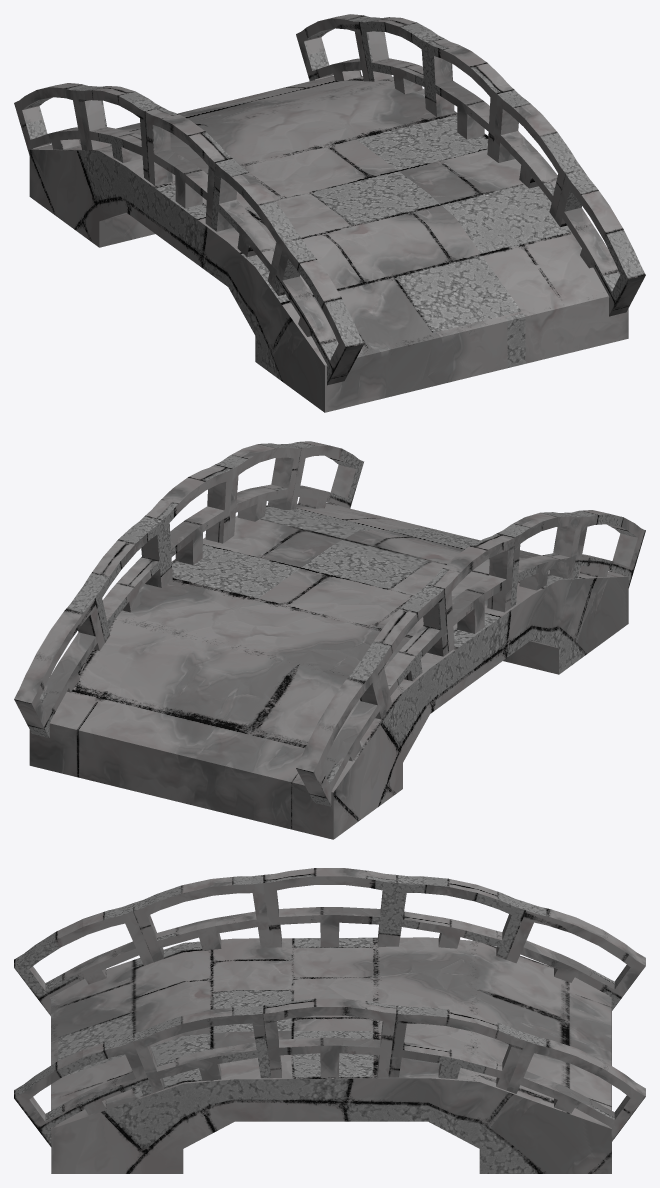
Rendered from bridge.fbx.
3 views of the same model, one above another, from view 1: azimuth 30°, elevation 25°; view 2: azimuth 150°, elevation 25°; view 3: azimuth 270°, elevation 25° (orthographic). The views are drawn at different scales.
Visible parts, largest first — view 1: Plane.035; view 2: Plane.035; view 3: Plane.035.
Part boxes in pixels (bbox=[...]): Plane.035: bbox=[14, 14, 645, 412]; Plane.035: bbox=[14, 441, 645, 839]; Plane.035: bbox=[14, 868, 645, 1173].
Bounding box in the file's own units: 511 × 281 × 969.
Materials: 1 (1 with a texture image).
